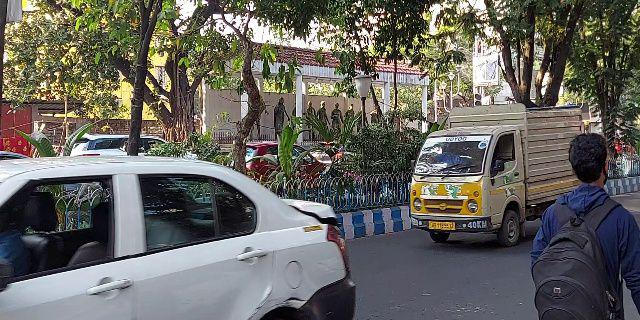Car: (1, 151, 362, 319)
Minitruck: (403, 105, 585, 245)
